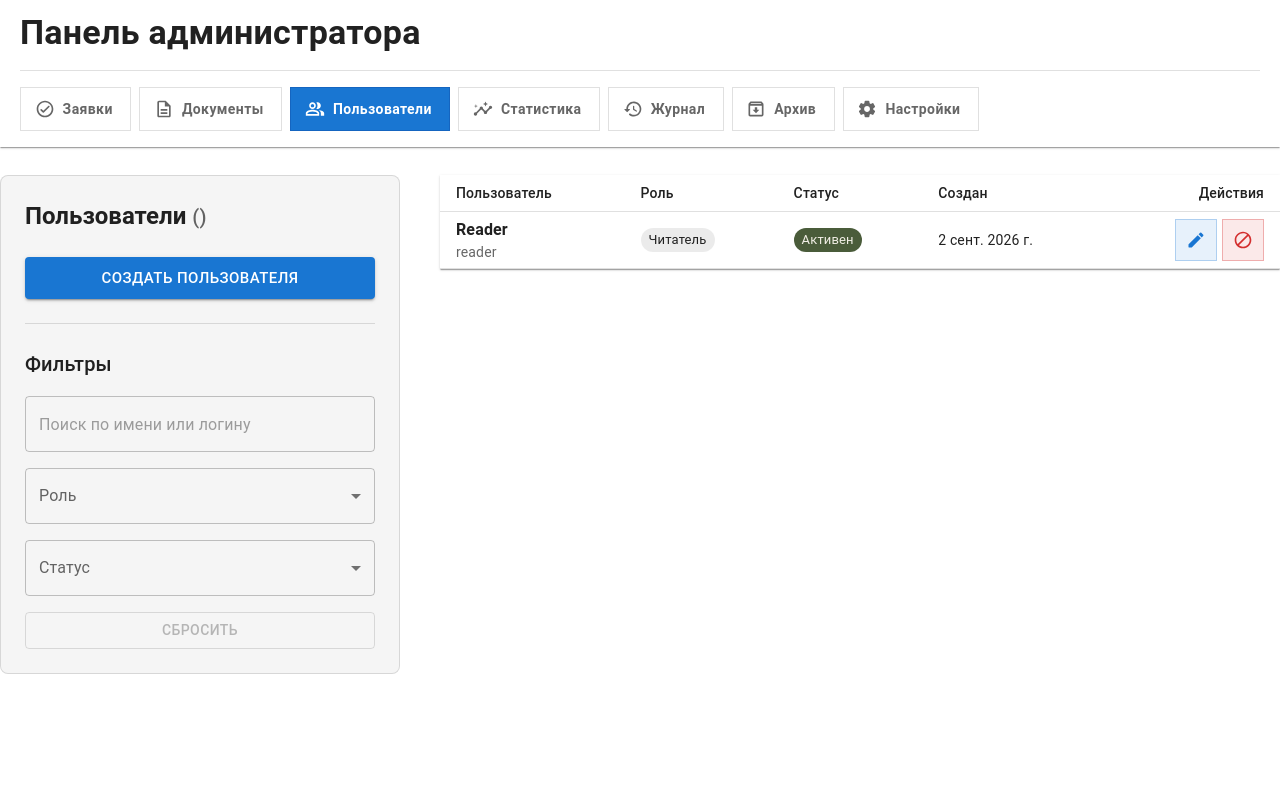
AdminUsersPage › lists users and creates a new account with a temporary password
The image size is (1280, 800).
Check: the text "reader" is shown, box [456,244,497,260]
Check: the link "Пользователи" is shown, box [290,87,450,131]
Click the button "Создать пользователя" at (200, 278), box [25,257,375,299]
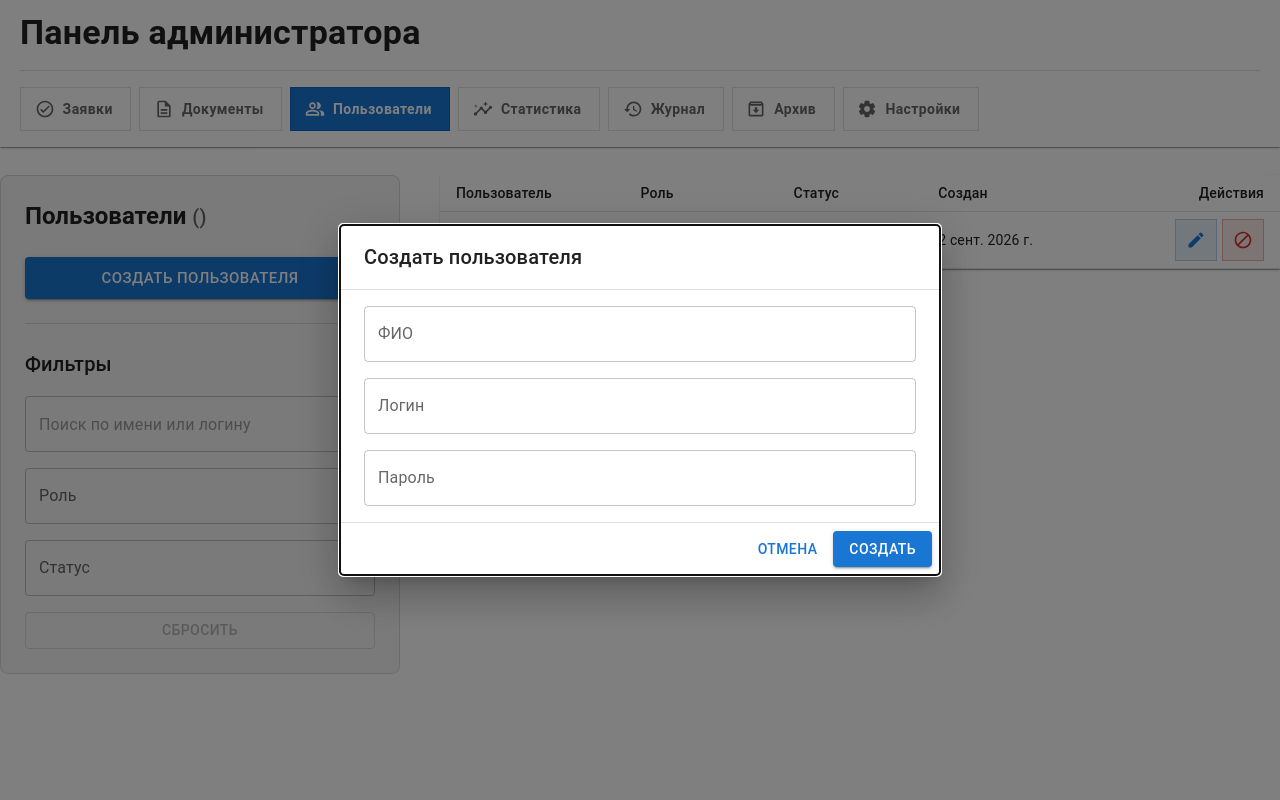
Check: the dialog is shown, box [340,225,940,575]
Type "New Reader" into the field labelled "ФИО" at (640, 334), box [364,306,916,362]
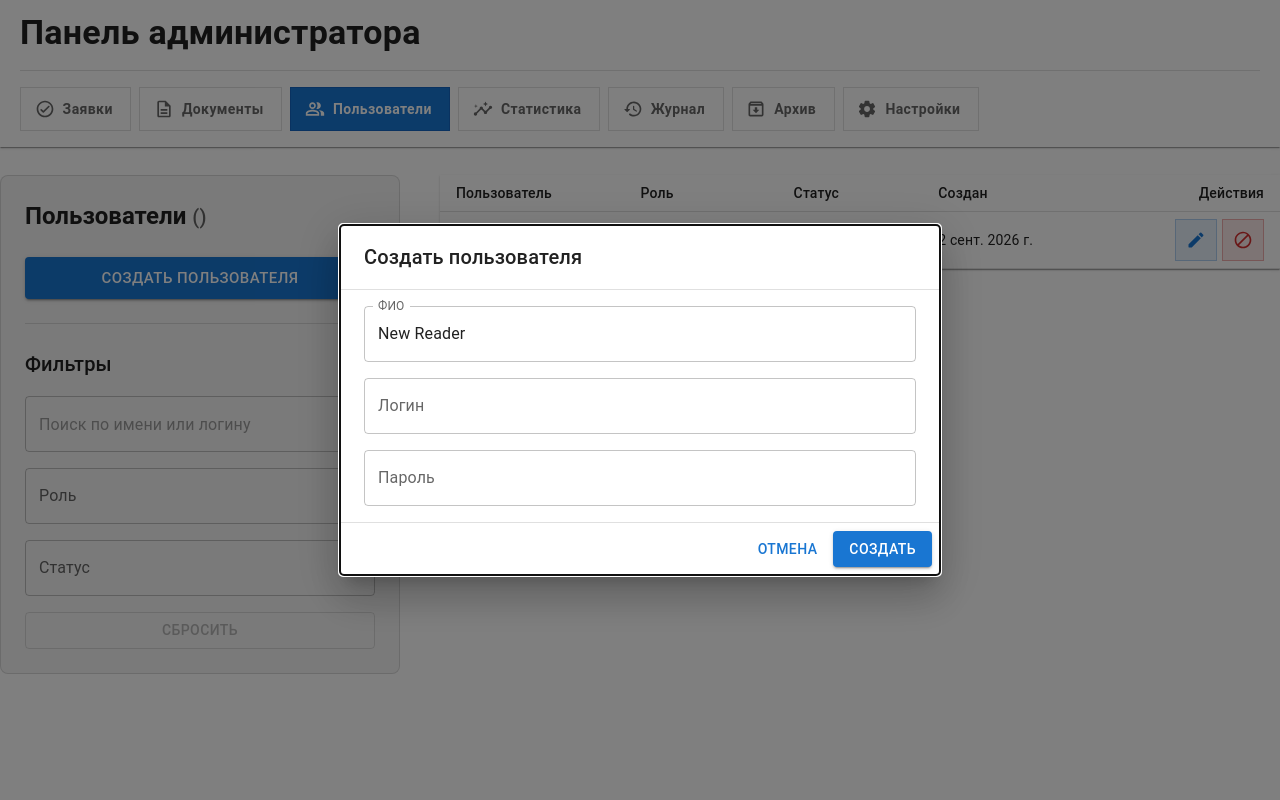
Type "newreader" into the field labelled "Логин" at (640, 406), box [364,378,916,434]
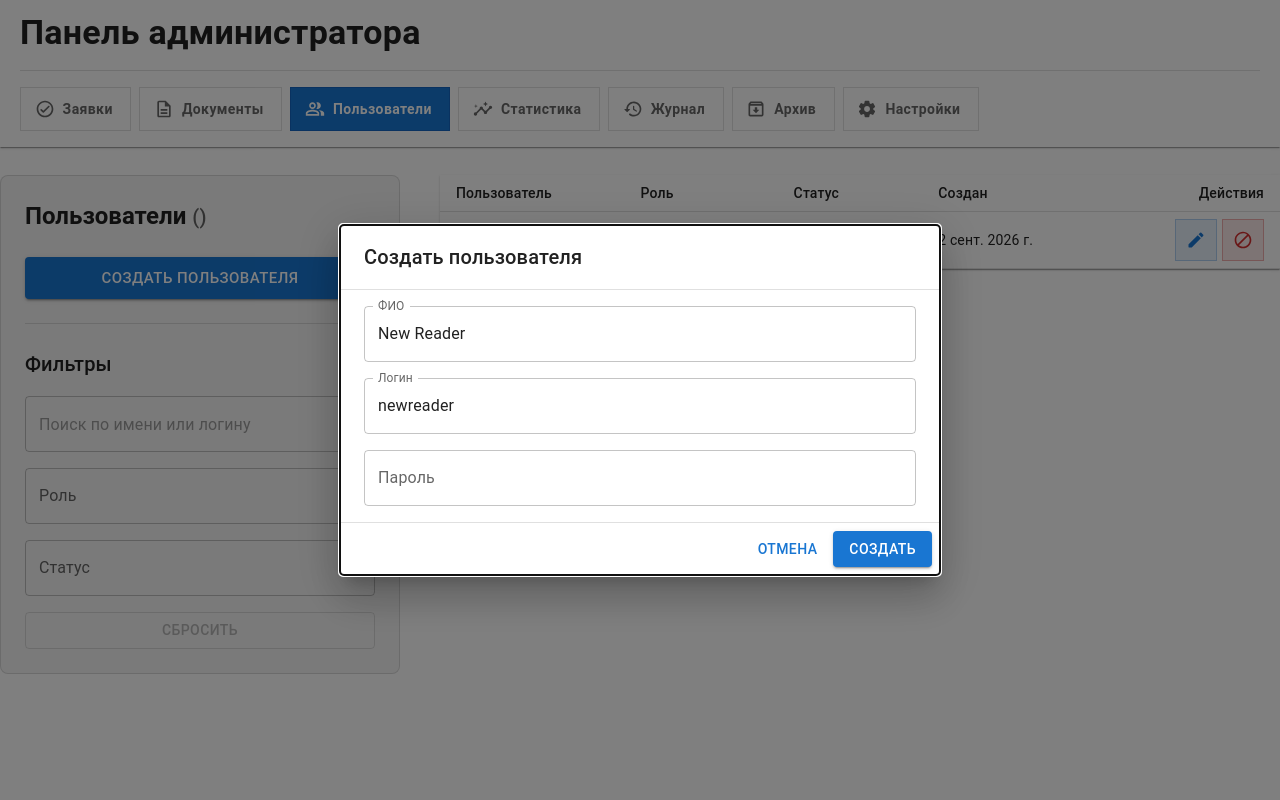
Type "secret123" into the field labelled "Пароль" at (640, 478), box [364,450,916,506]
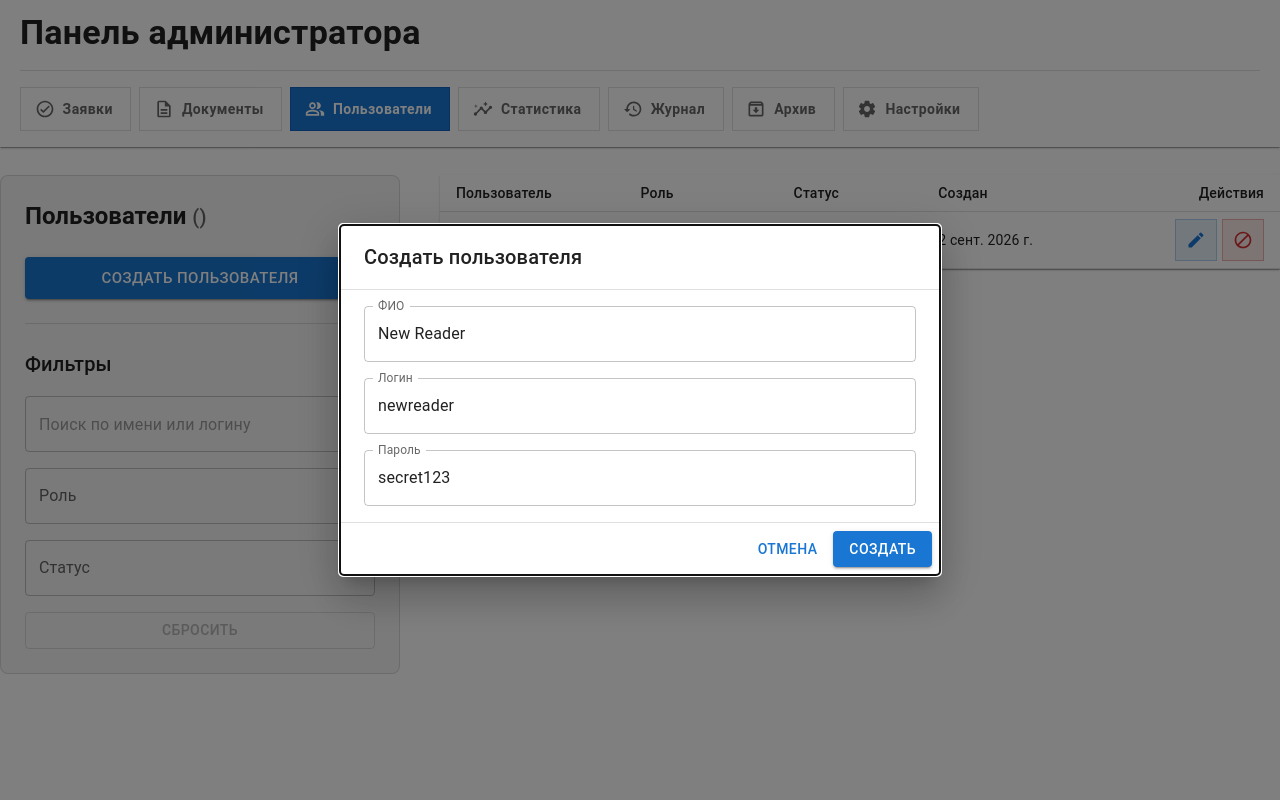
Click the button "Создать" at (883, 549), box [833,531,932,567]
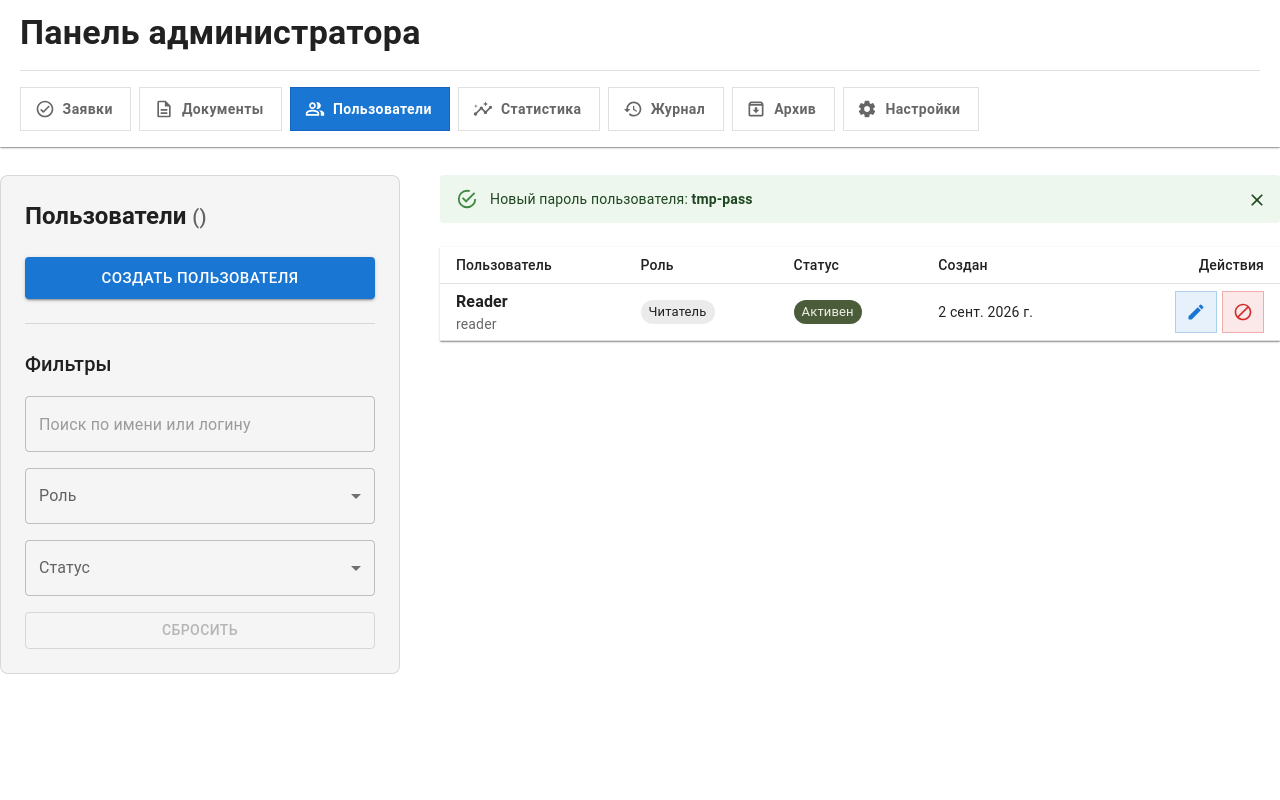
Check: the text "tmp-pass" is shown, box [692,191,753,207]
